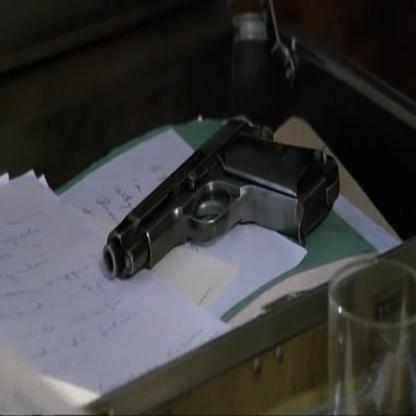gun: (94, 108, 361, 291)
